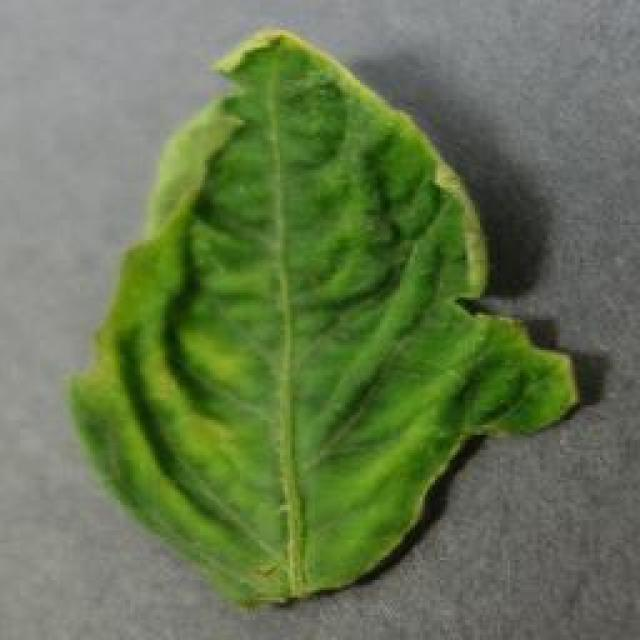Tomato yellow virus leaf: (71, 25, 584, 605)
